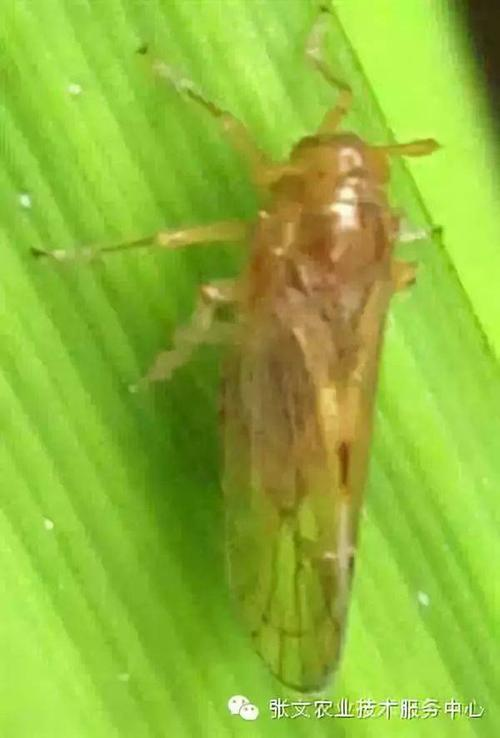Delphacidae: (30, 7, 444, 696)
